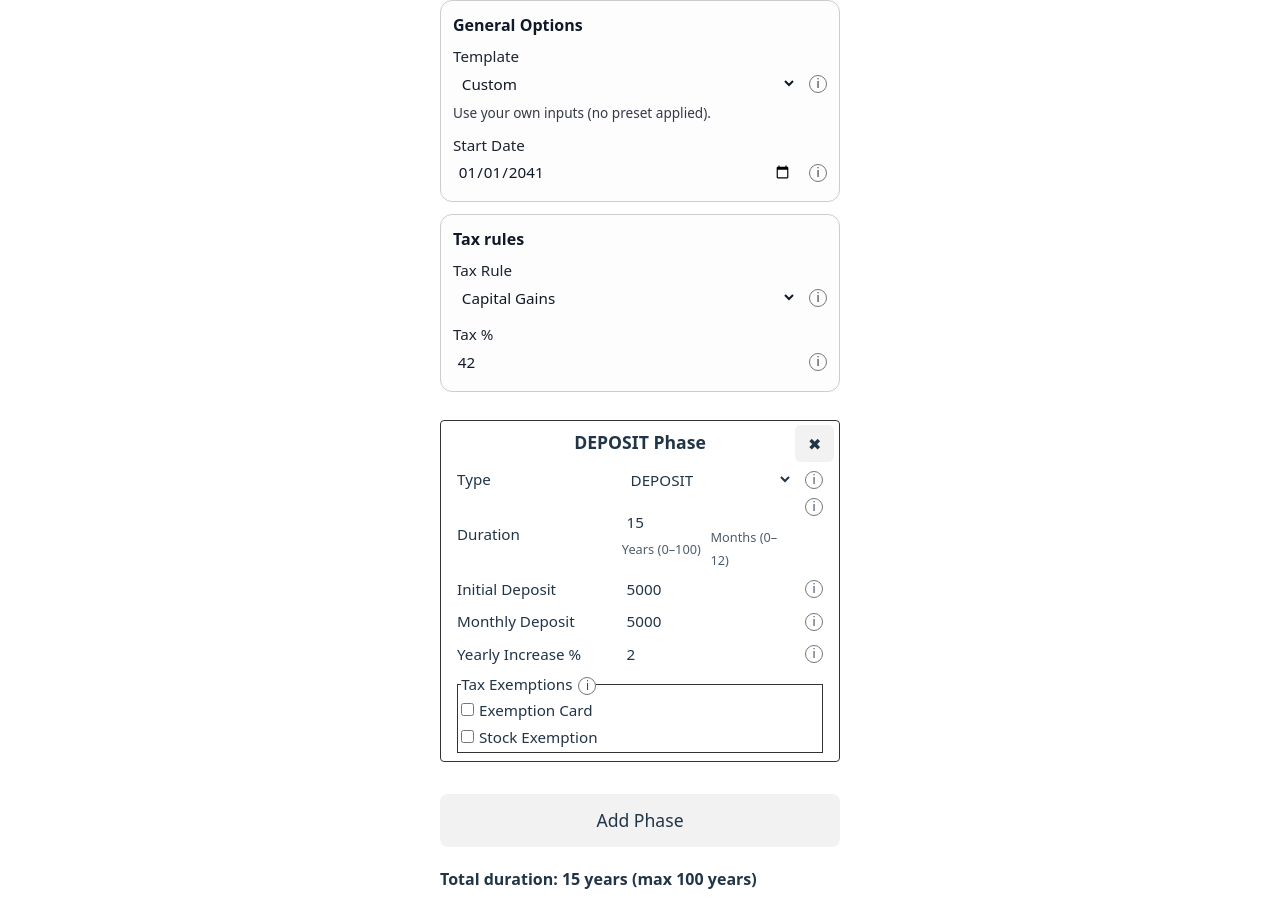
Scenario: NormalInputForm templates › opens What changed? as read-only (no warning/apply)
The image size is (1280, 900).
Type "2030-01-01" into the date field labelled "Start Date i".
click(625, 173); type("2030-01-01")  # box 453,157 -> 797,189
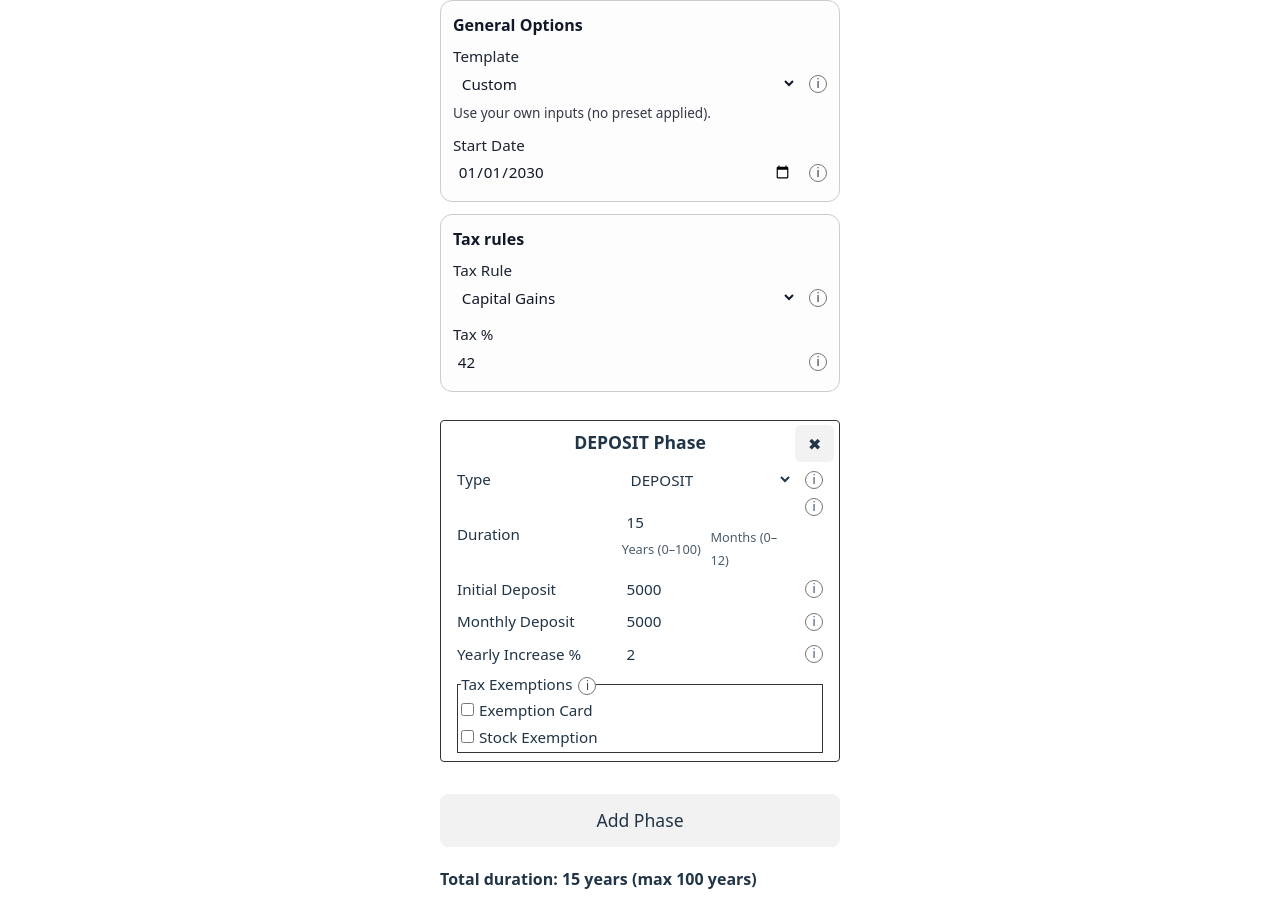
Select "Starter" in the dropdown labelled "Template i Use your own inputs (no preset applied)." at [625, 84], box 453,68 -> 797,99
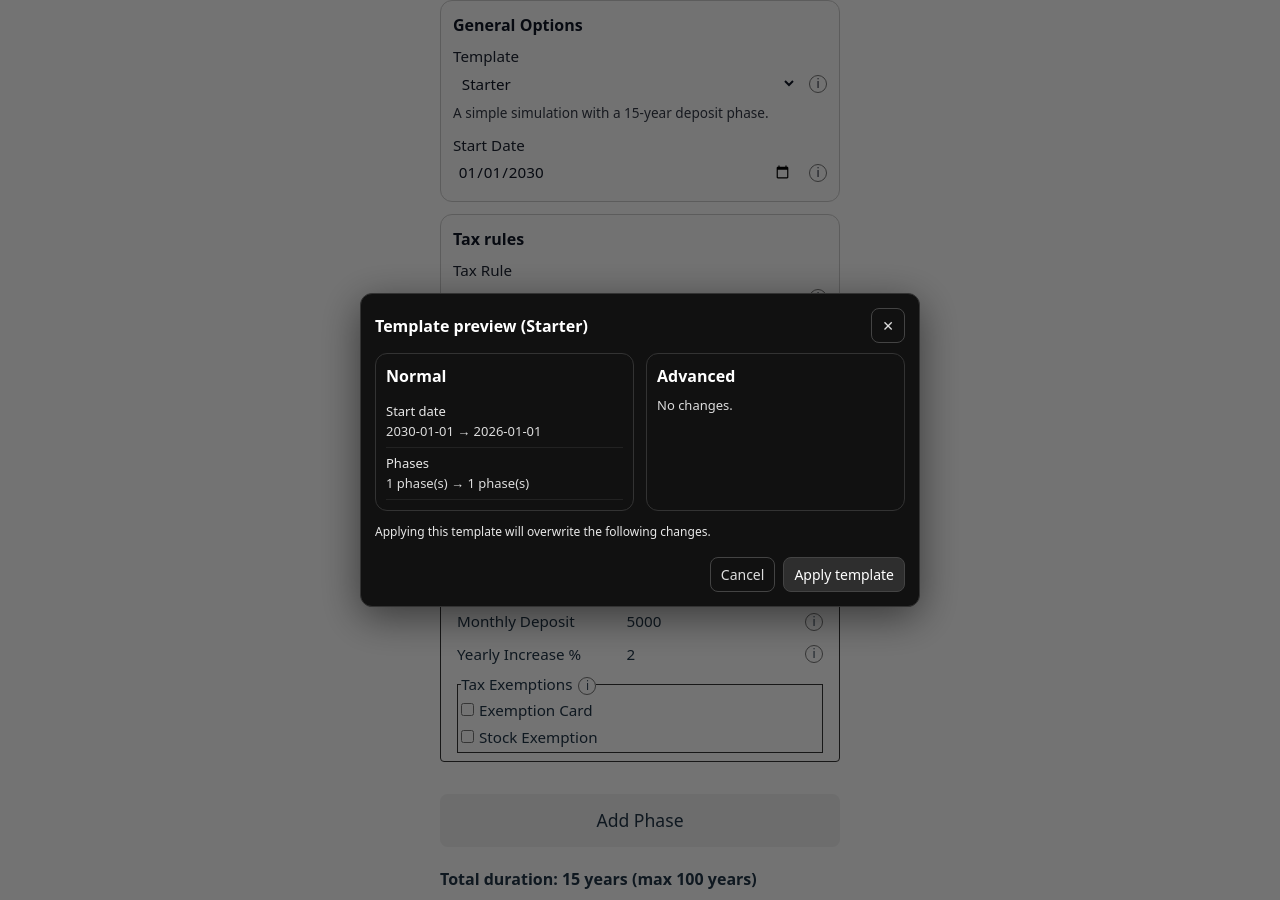
Now the dialog "Template preview" is shown
Click the button "Apply template".
click(844, 574)  # box 783,557 -> 905,592
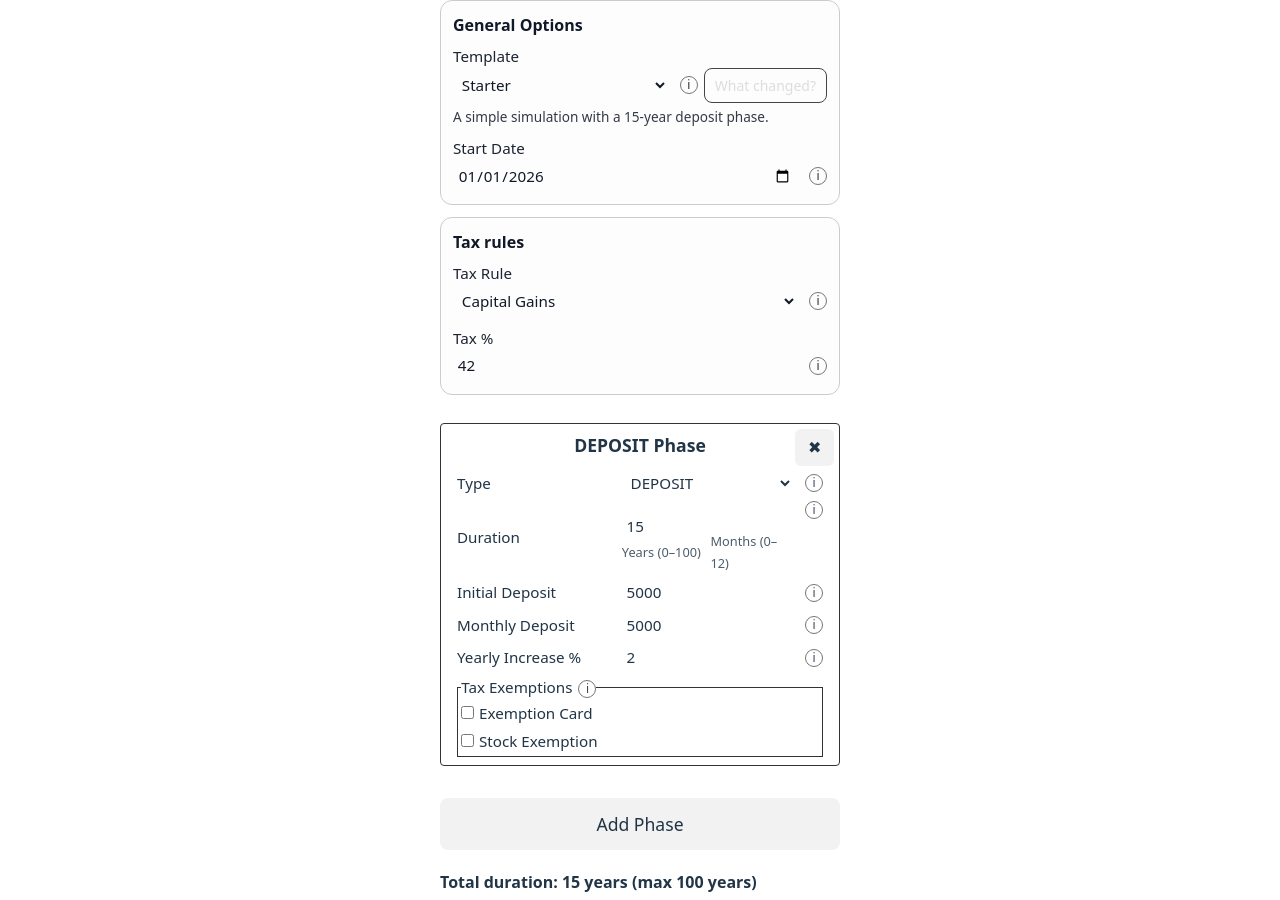
Click the button "What changed?".
click(765, 85)  # box 704,68 -> 827,103
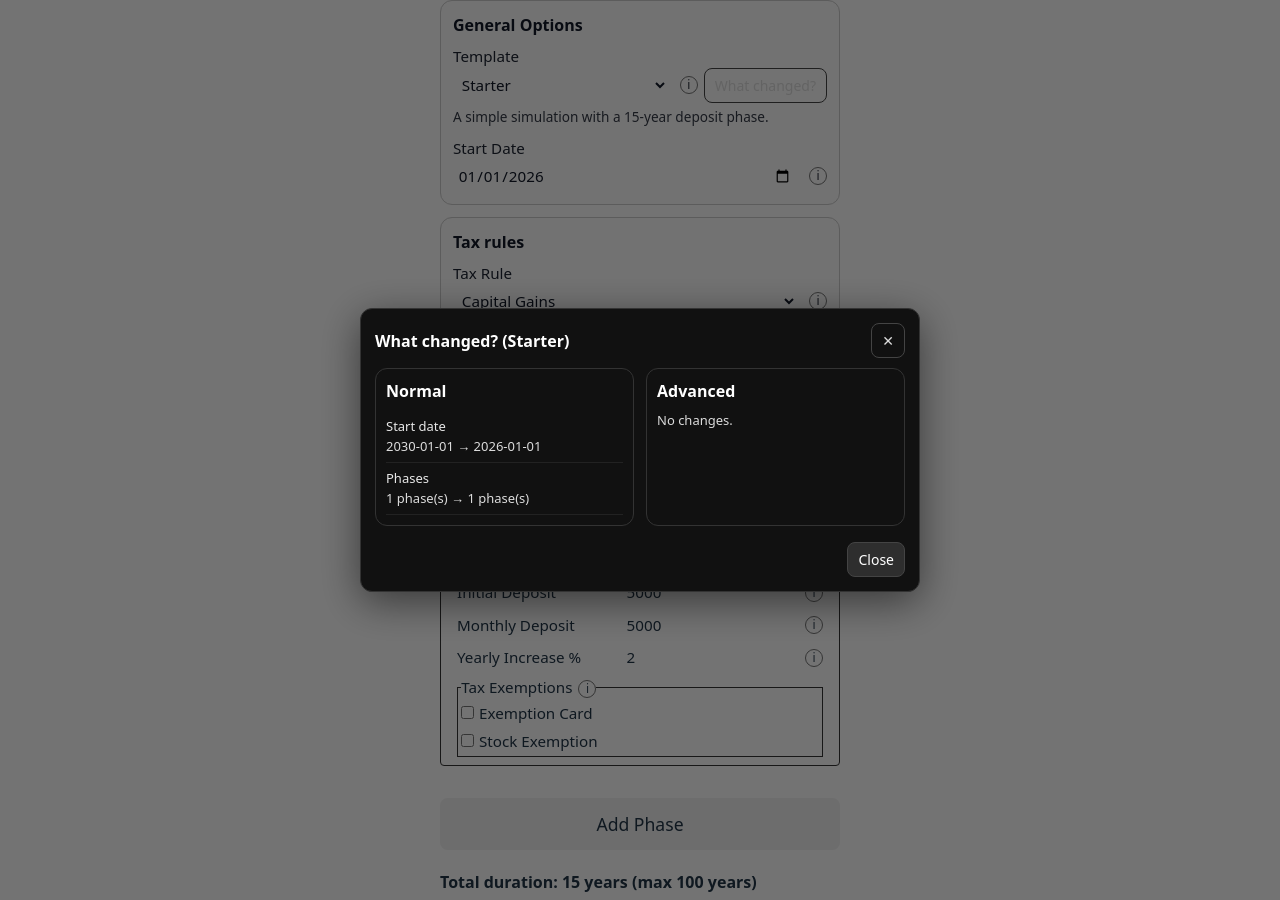
Expected: the text "Applying this template will overwrite" is not shown
Now the text "Start date" is shown, box 386,417 -> 446,435
